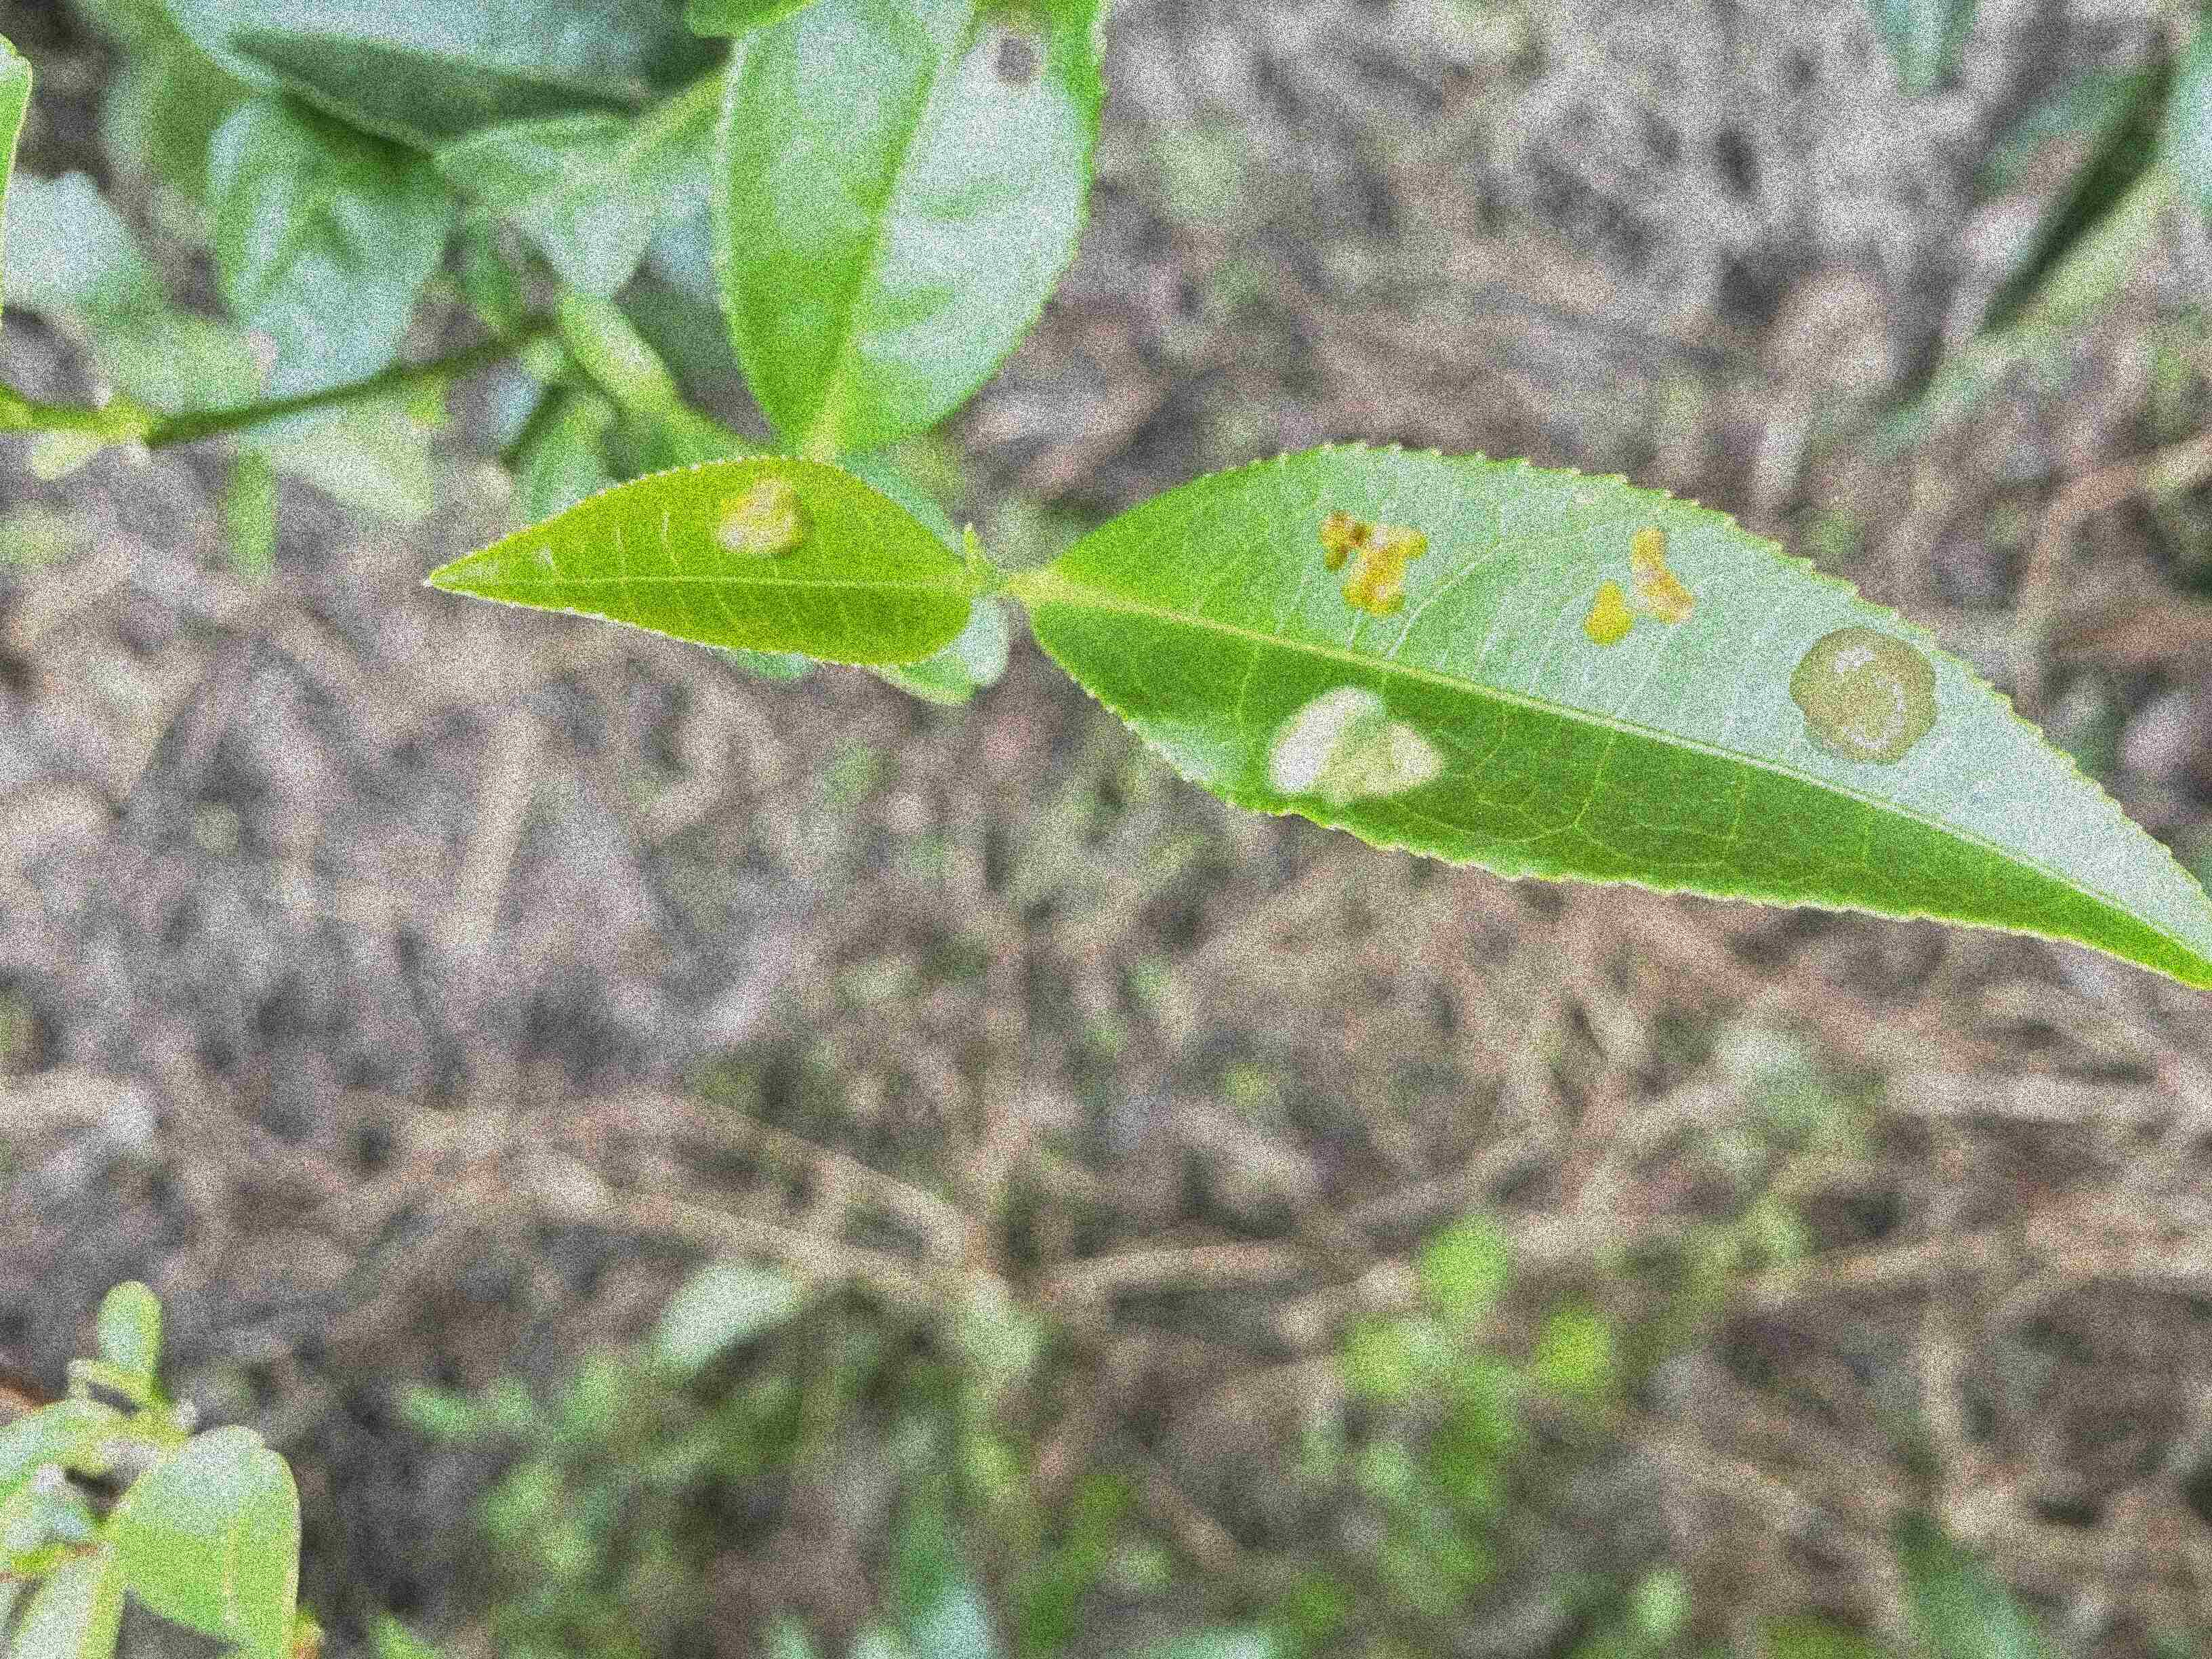chabing_high: (1031, 427, 2210, 988)
chabing_low: (418, 455, 975, 667)
chihuo_low: (714, 3, 1116, 453)
